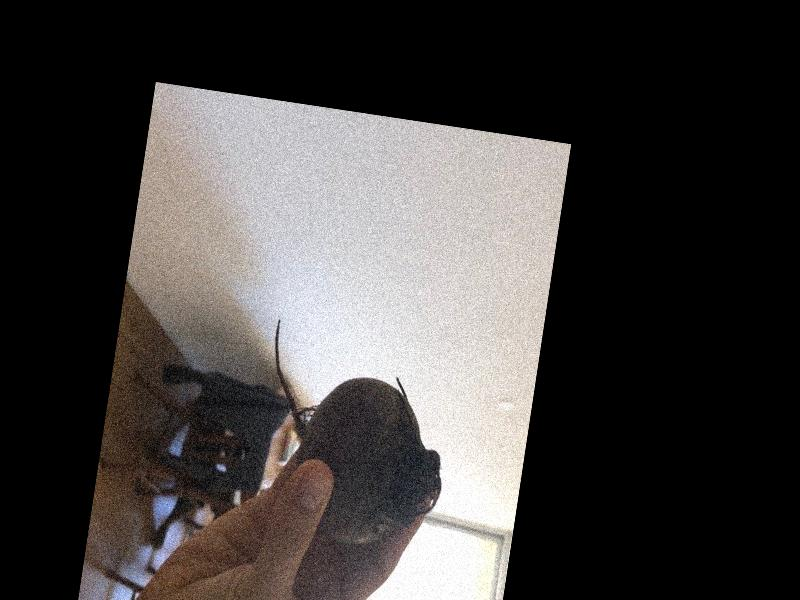Beet: (247, 317, 463, 555)
